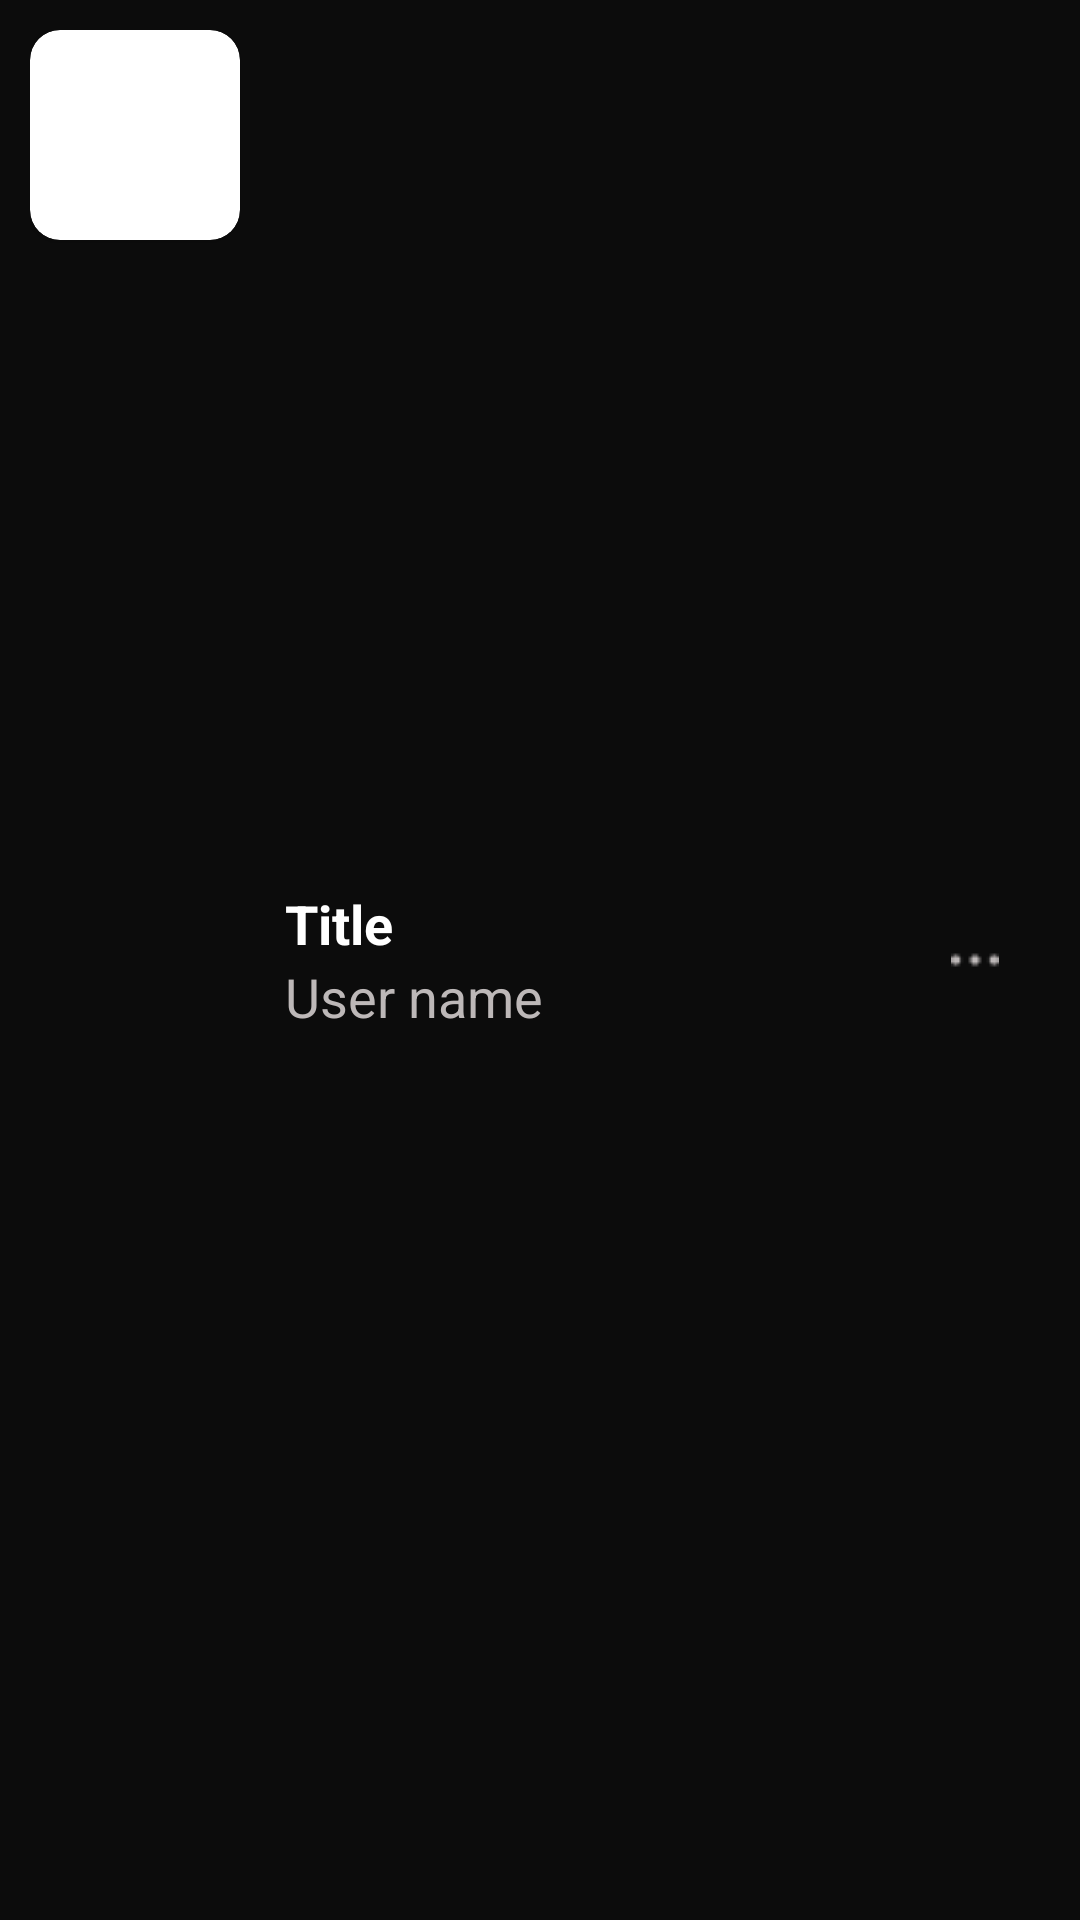

Screen size 1080 × 1920. Icon name, then its box in pixels as Rect(x1, y1, x2, y2):
more: Rect(951, 953, 999, 967)
